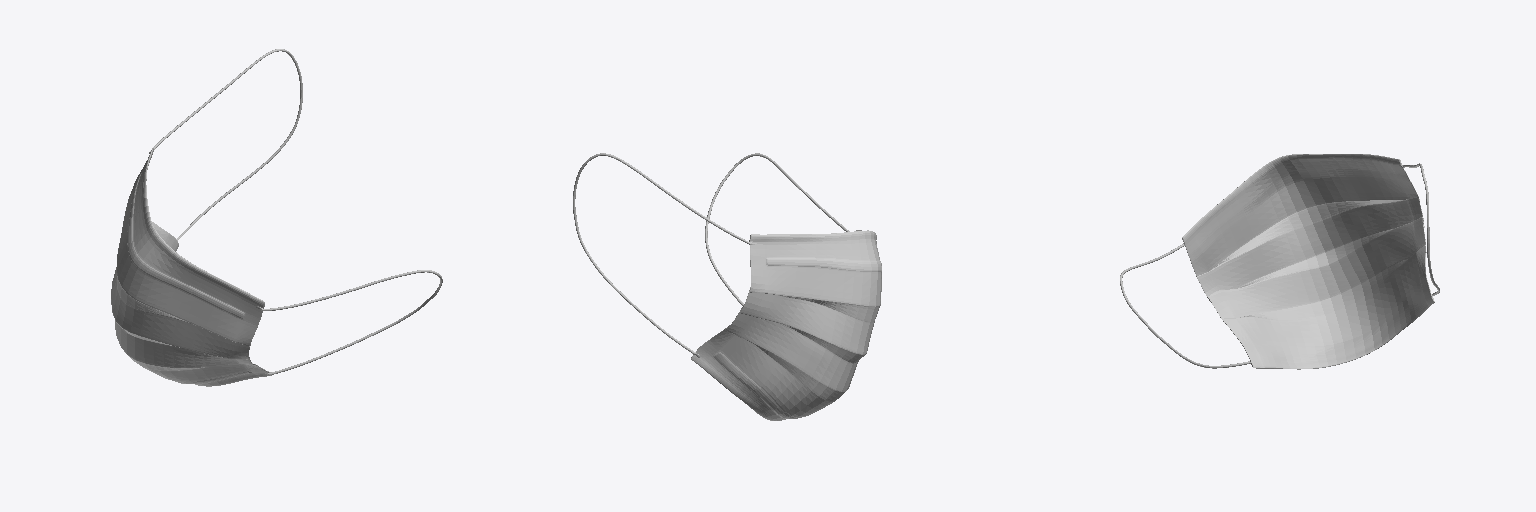
The model's file is MaskModel2.obj.
3 renders of one model, left to right at view 1: azimuth 30°, elevation 25°; view 2: azimuth 150°, elevation 25°; view 3: azimuth 270°, elevation 25°, orthographic.
Parts seen in each view (by area): view 1: face_mask_1_subdiv_1:Mesh; view 2: face_mask_1_subdiv_1:Mesh; view 3: face_mask_1_subdiv_1:Mesh.
Part boxes in pixels (x1,y1,x2,y2): face_mask_1_subdiv_1:Mesh: (111, 49, 442, 386); face_mask_1_subdiv_1:Mesh: (573, 153, 881, 420); face_mask_1_subdiv_1:Mesh: (1120, 154, 1439, 369).
Size of the model in its own units: 2.66 by 2.79 by 3.06.